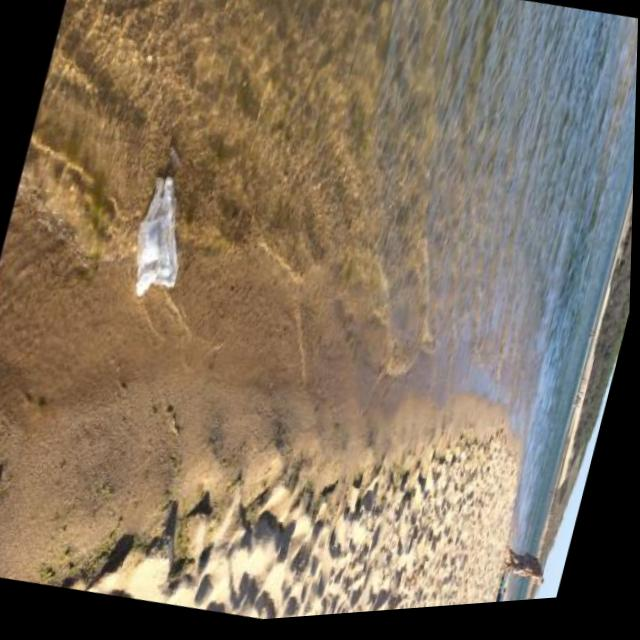plastic: (118, 168, 201, 306)
